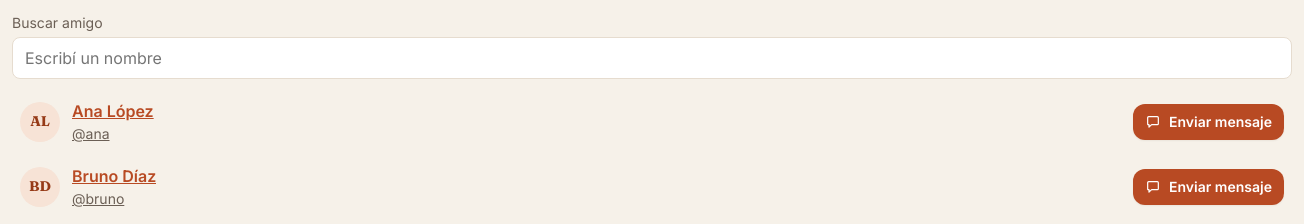
StartConversationPanel › filtra por nombre al escribir
Step 1. Type "bruno" into the search field with placeholder "Escribí un nombre" → (652, 58), box left=12, top=37, right=1292, bottom=79
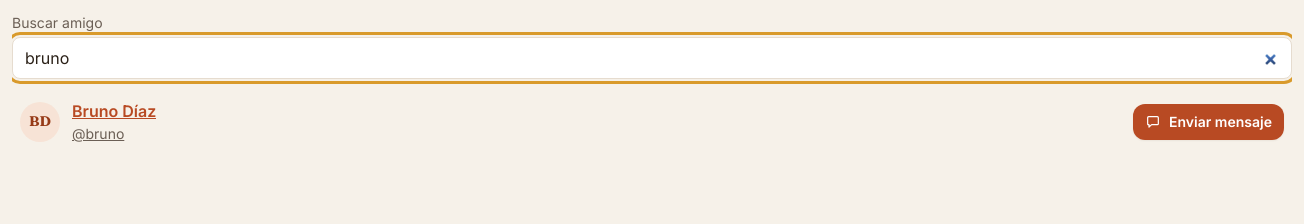
Expected: the link "Bruno Díaz" is shown, left=72, top=99, right=156, bottom=123
Now the link "Ana López" is gone
